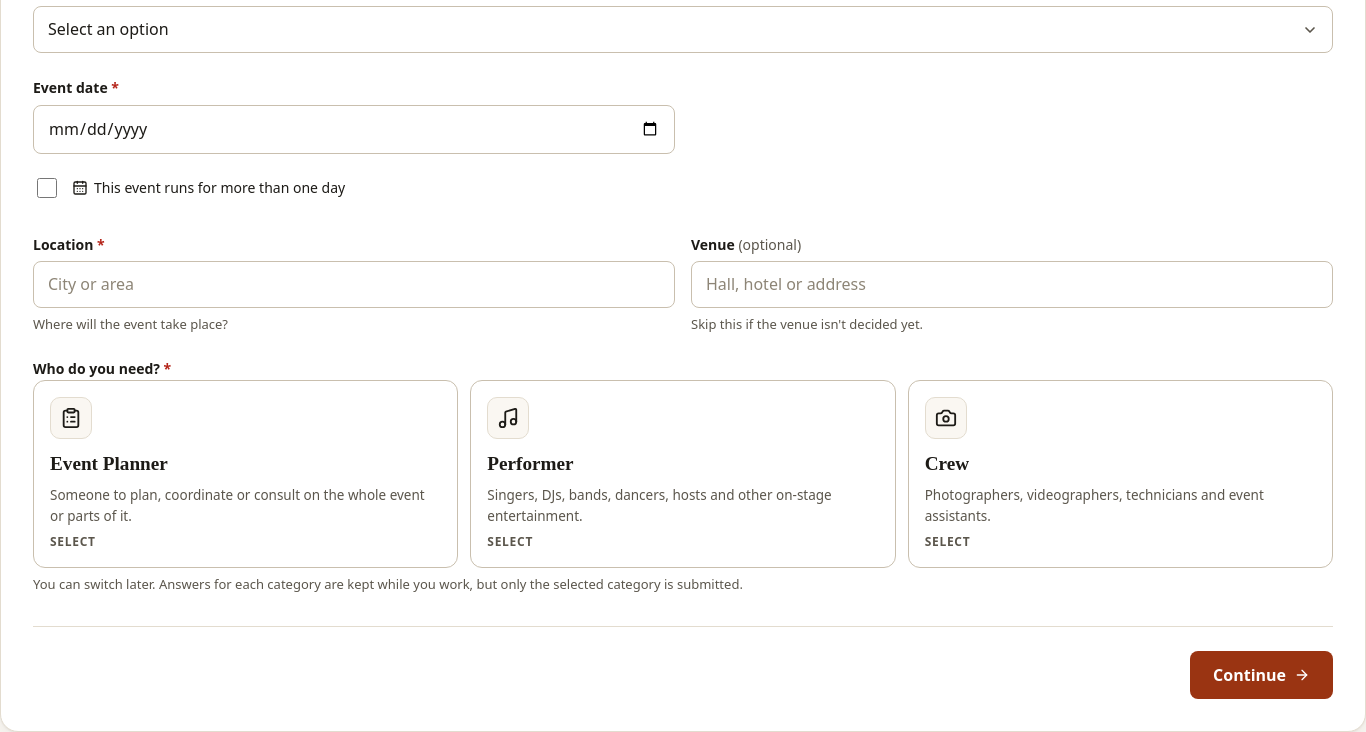
Test: RequirementWizard › blocks Continue on empty step 1 and shows inline, associated errors
(page scrolled)
Click the button "Continue": [1262, 675] box [1190,651,1333,699]
(page scrolled)
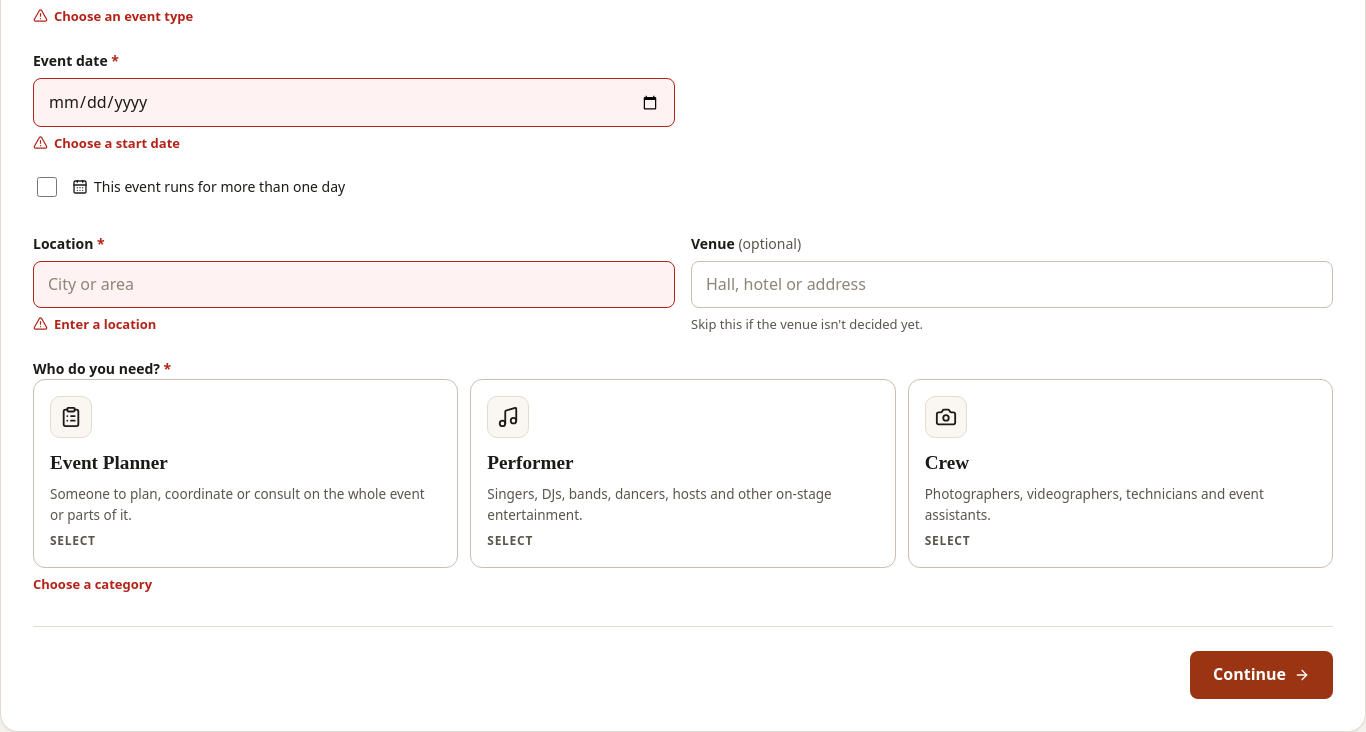
Result: the text "Choose a category" is shown at [33,575,152,593]
